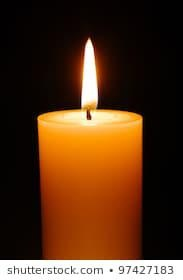fire: (79, 34, 99, 113)
